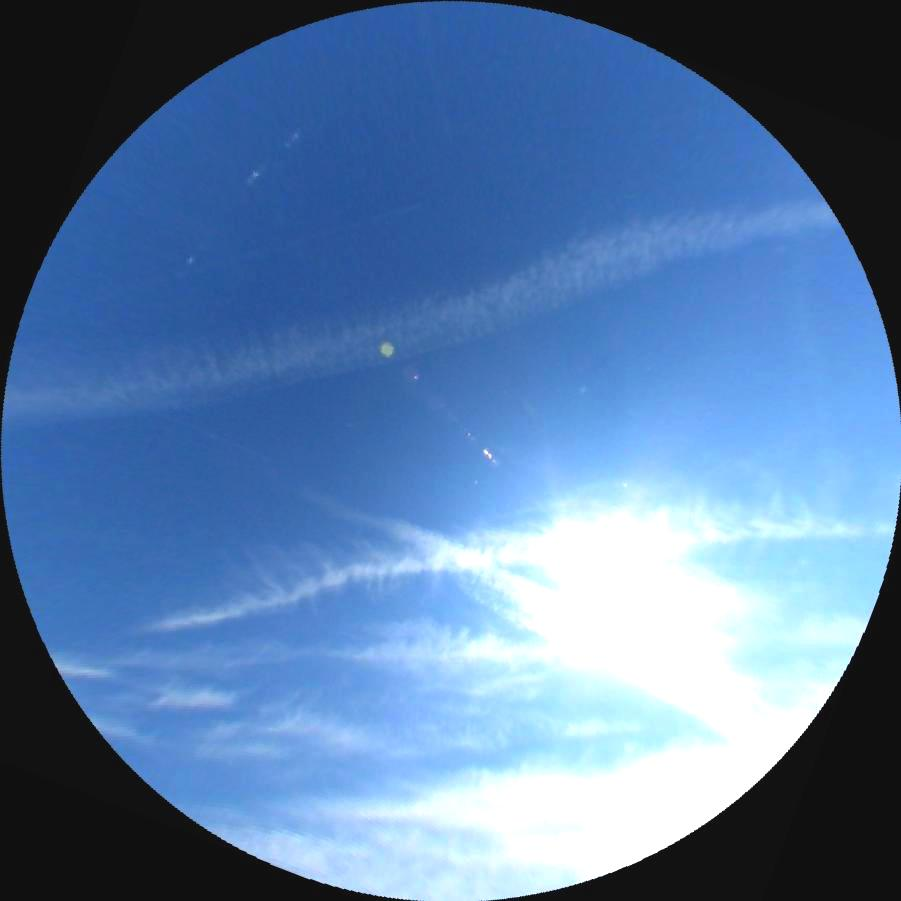contrail veryold: (0, 168, 845, 455), (298, 455, 774, 750), (129, 474, 894, 636)
parasite: (186, 66, 351, 262), (29, 352, 270, 459), (659, 610, 802, 735)
sun: (573, 517, 691, 634)
